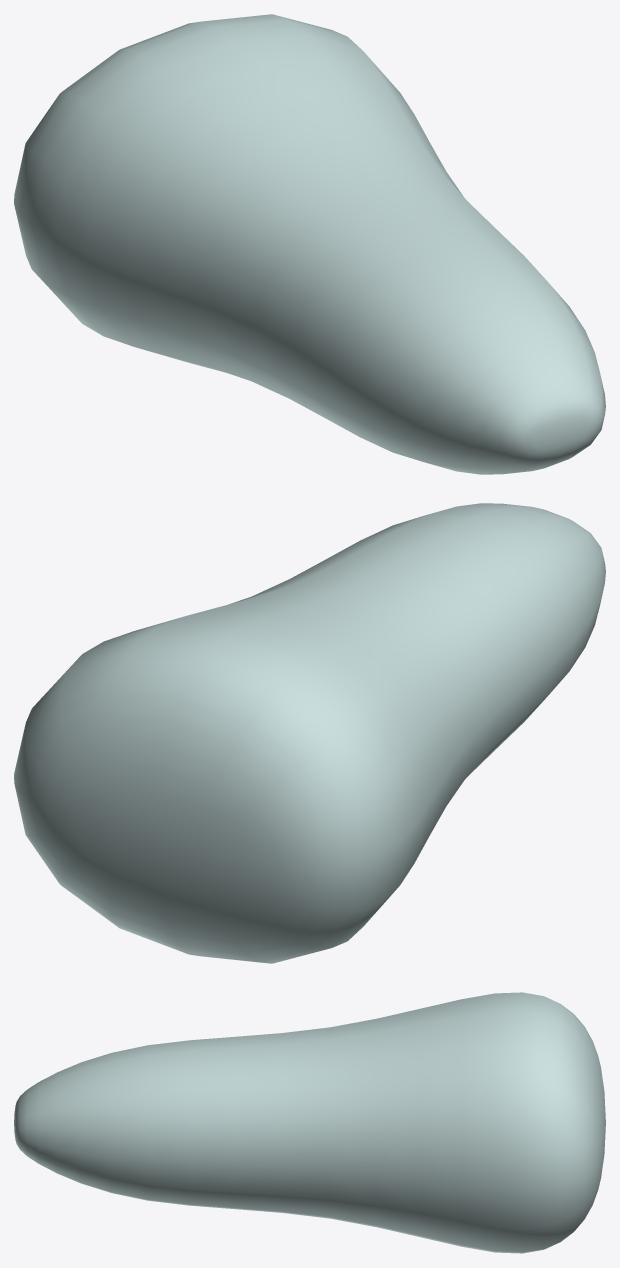
File: Teardrop.fbx
3 renders of one model, top to bottom at view 1: azimuth 30°, elevation 25°; view 2: azimuth 150°, elevation 25°; view 3: azimuth 270°, elevation 25°, orthographic. The views are drawn at different scales.
Parts seen in each view (by area): view 1: Cube.006; view 2: Cube.006; view 3: Cube.006.
Part boxes in pixels (<box>): Cube.006: <box>14,14,605,474</box>; Cube.006: <box>14,503,605,963</box>; Cube.006: <box>14,992,605,1253</box>.
Size of the model in its own units: 402 by 322 by 769.
